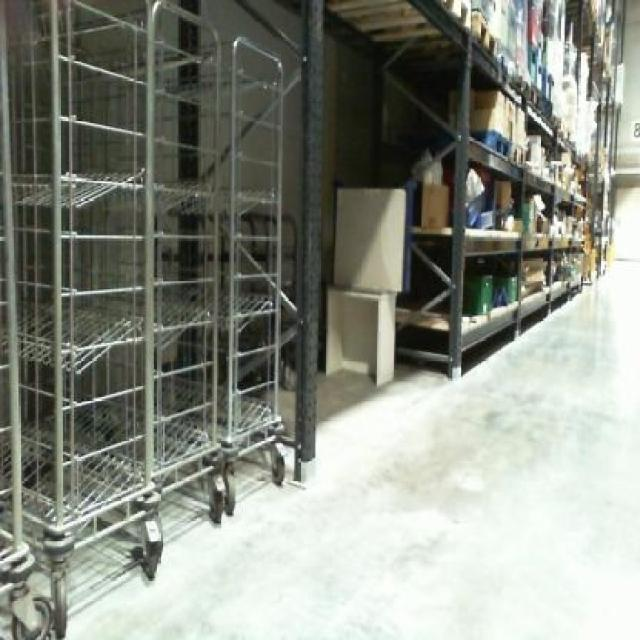floor: (68, 260, 637, 637)
pallets: (325, 0, 618, 374), (22, 552, 48, 600)
